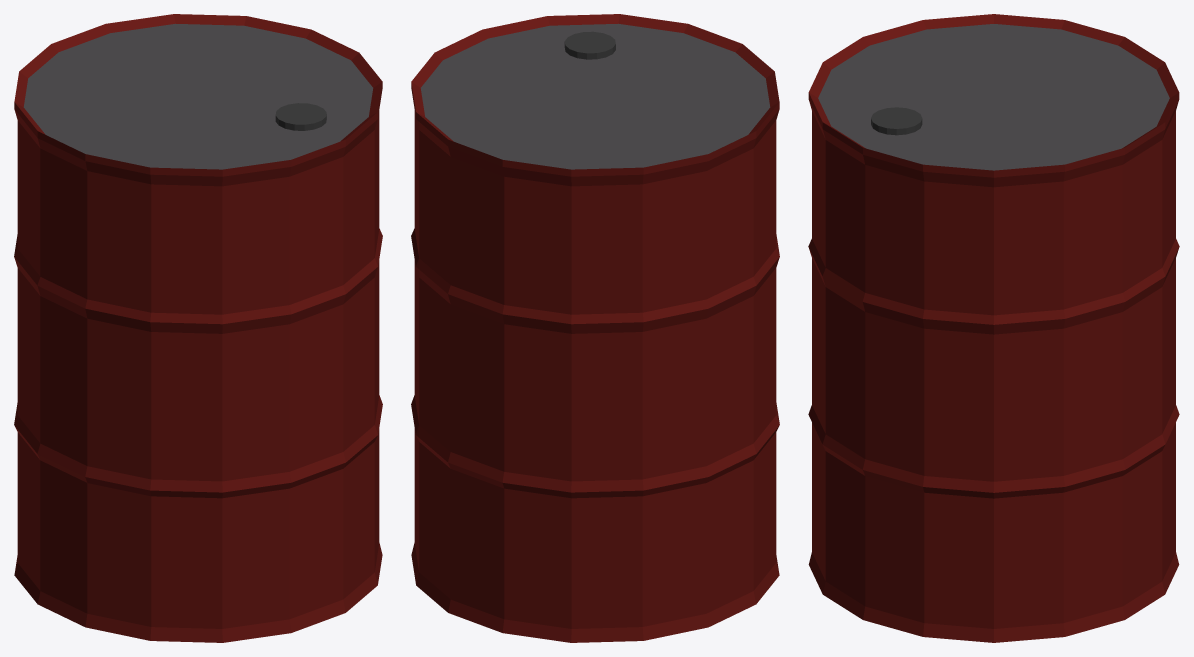
File: RedBarrel.fbx
The picture shows the model from 3 angles, left to right: view 1: azimuth 30°, elevation 25°; view 2: azimuth 150°, elevation 25°; view 3: azimuth 270°, elevation 25°; orthographic projection.
Visible parts, largest first — view 1: Cylinder; view 2: Cylinder; view 3: Cylinder.
Part boxes in pixels (bbox=[...]): Cylinder: bbox=[14, 14, 382, 642]; Cylinder: bbox=[411, 14, 779, 642]; Cylinder: bbox=[808, 14, 1179, 642].
Bounding box in the file's own units: 233 × 328 × 233.
